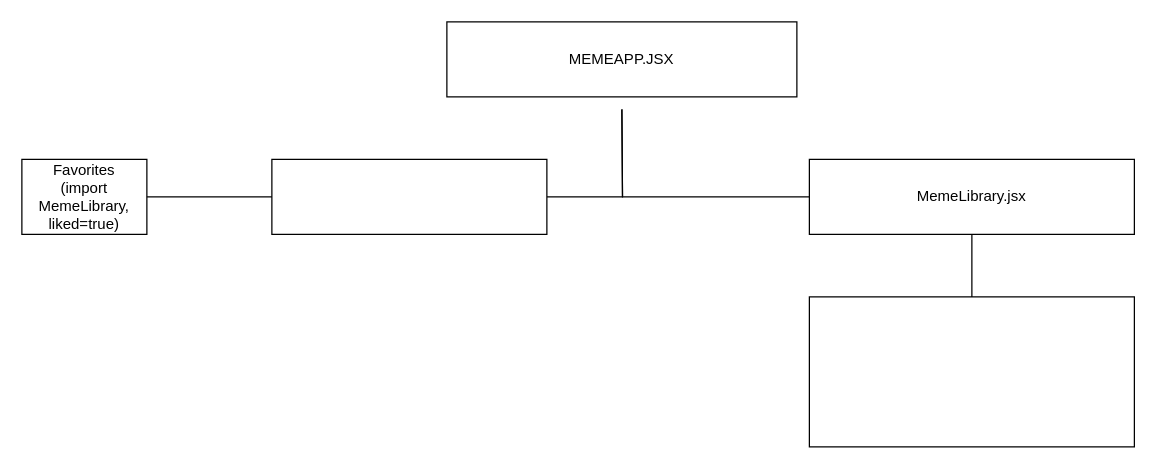
This 1156x469 diagram has some shape labels left out. Here are the shapes that lost their labels. From the top down, the box of each, then its label:
(271, 158, 547, 234): NewMemeForm.jsx
(808, 296, 1134, 447): MemeCard.jsx (add like/add2fav button)
